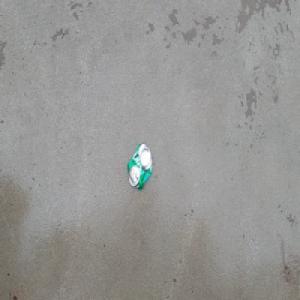SodaCan: (127, 141, 153, 191)
